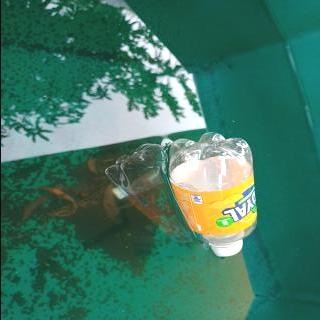bottle: (165, 132, 258, 258)
